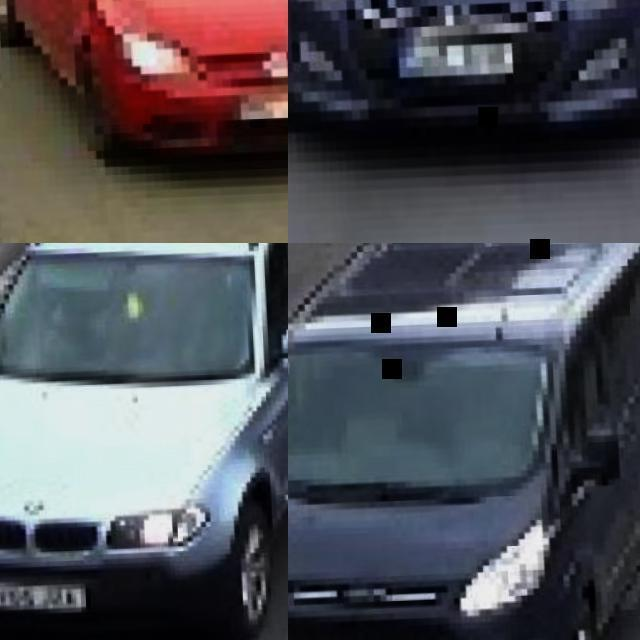car: (281, 242, 634, 639), (1, 233, 291, 637), (59, 0, 286, 158)
